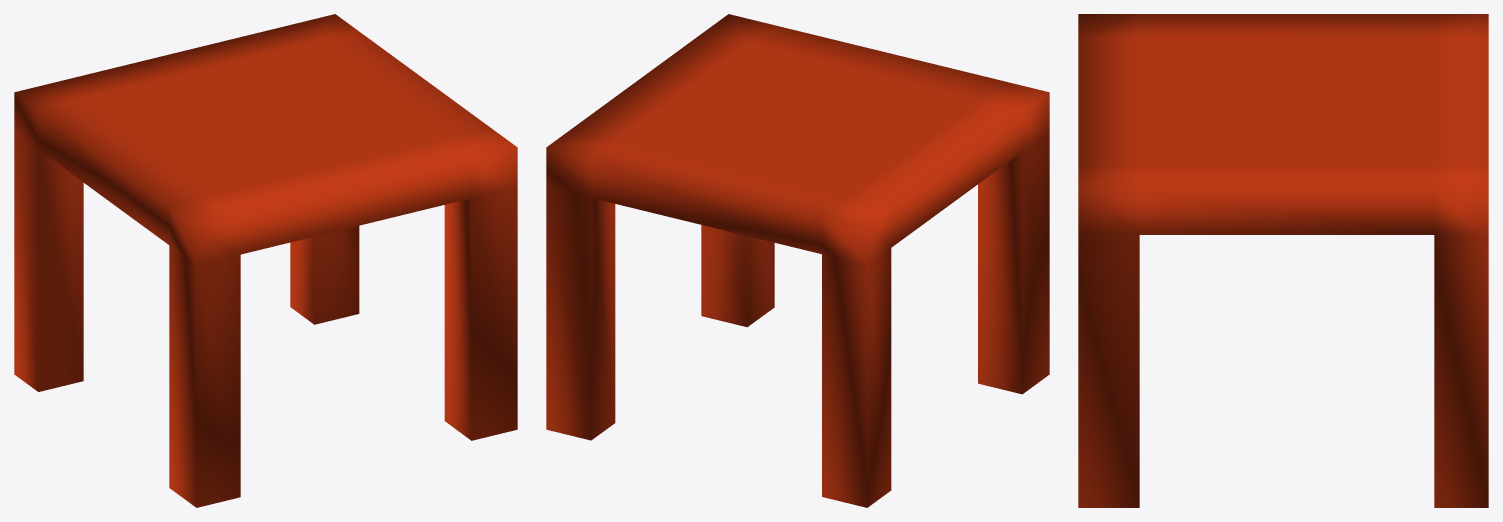
File: taburete.FBX
The picture shows the model from 3 angles, left to right: view 1: azimuth 30°, elevation 25°; view 2: azimuth 150°, elevation 25°; view 3: azimuth 270°, elevation 25°; orthographic projection. The views are drawn at different scales.
Visible parts, largest first — view 1: Box001; view 2: Box001; view 3: Box001.
Part boxes in pixels (bbox=[...]): Box001: bbox=[14, 14, 517, 507]; Box001: bbox=[546, 14, 1049, 507]; Box001: bbox=[1078, 14, 1488, 507].
Bounding box in the file's own units: 19.09 × 16.04 × 18.78.
